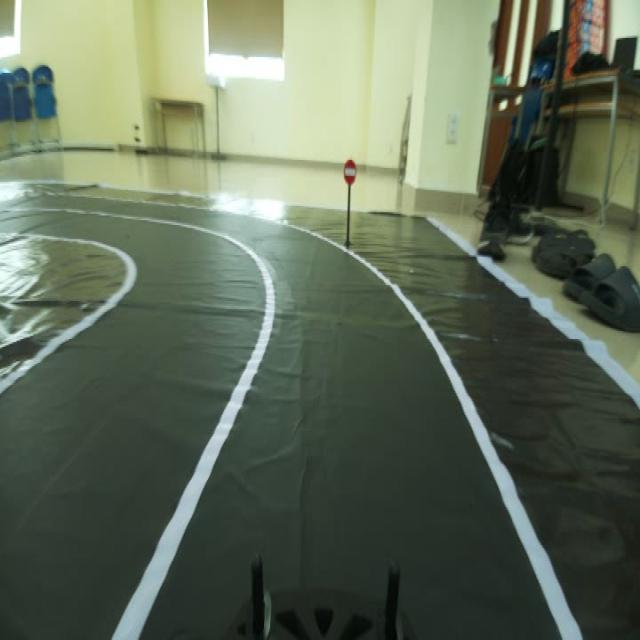no_entry: (342, 147, 358, 185)
